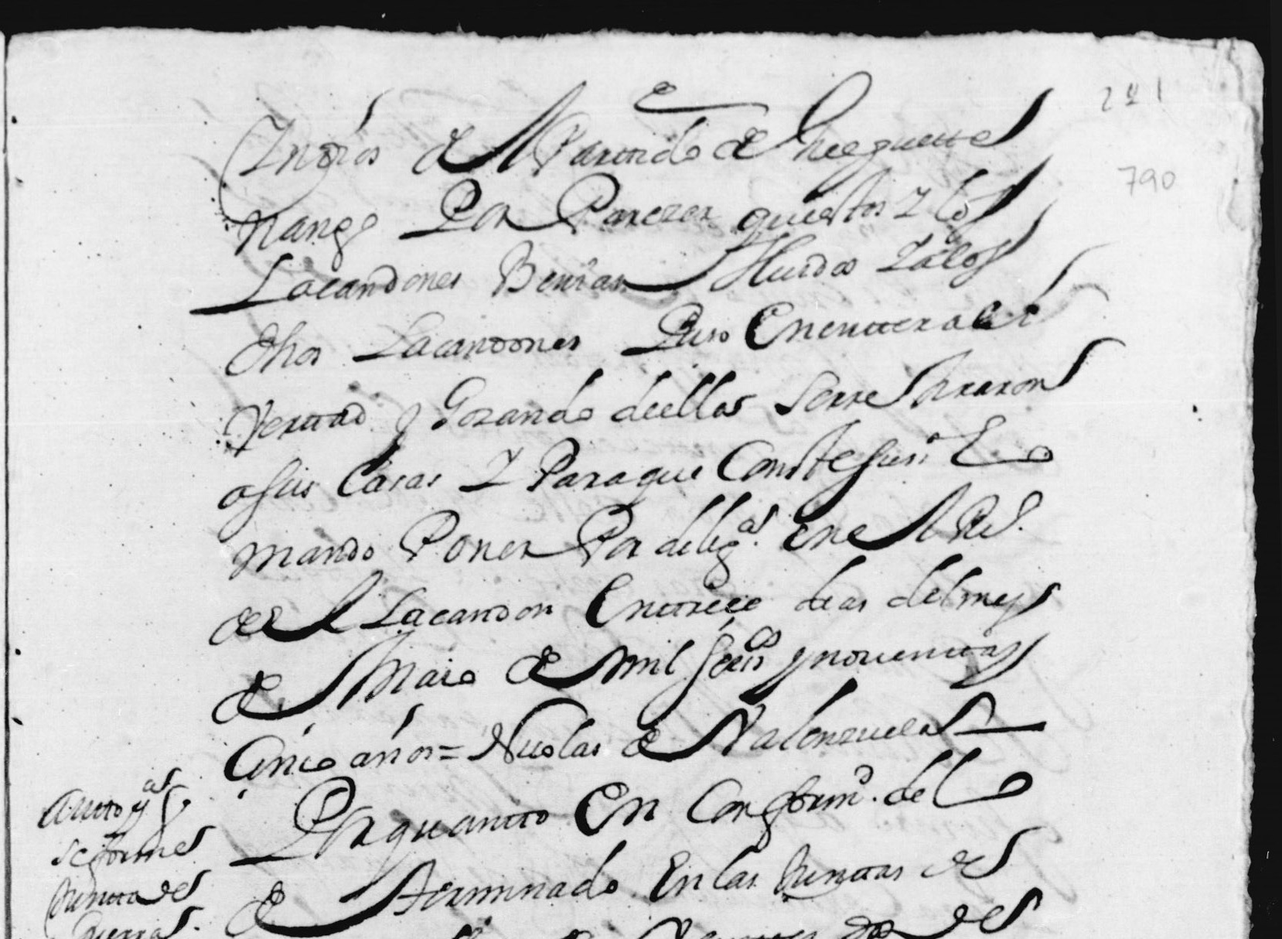lacandon: (189, 252, 462, 315), (352, 311, 579, 362), (360, 587, 552, 629)
